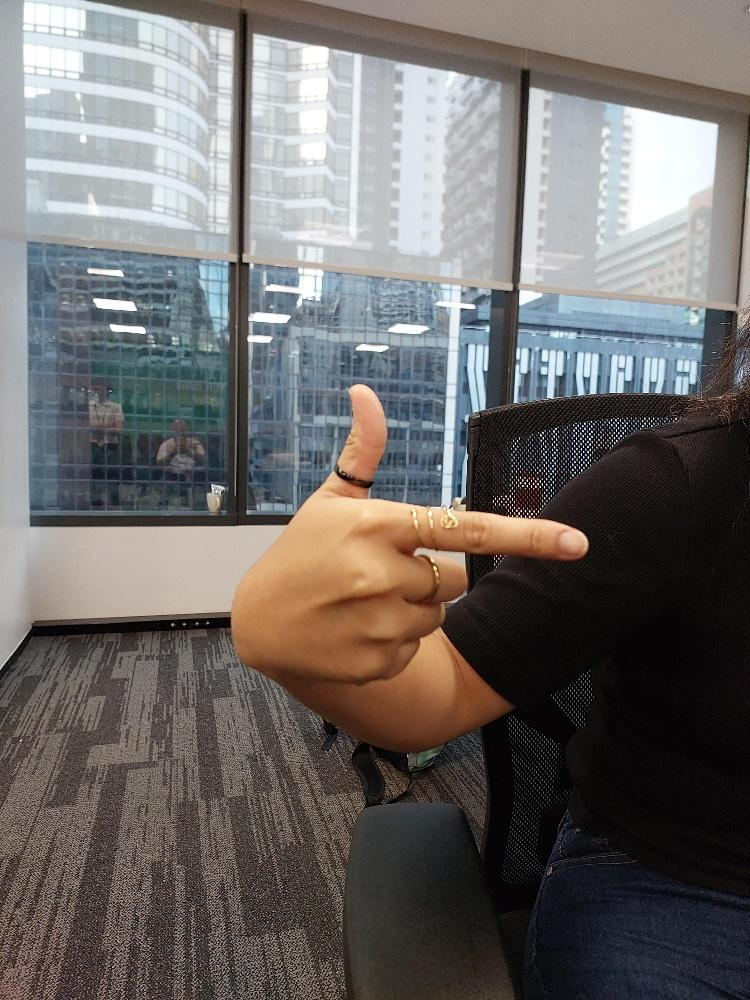g: (228, 381, 591, 690)
